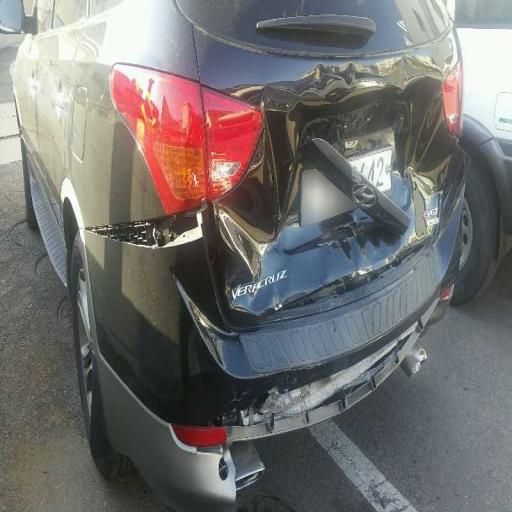broken: (60, 126, 211, 336)
dent: (222, 60, 459, 300)
